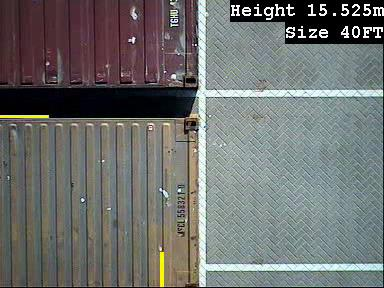groundmarker_2: (195, 48, 239, 106), (195, 227, 238, 286)
